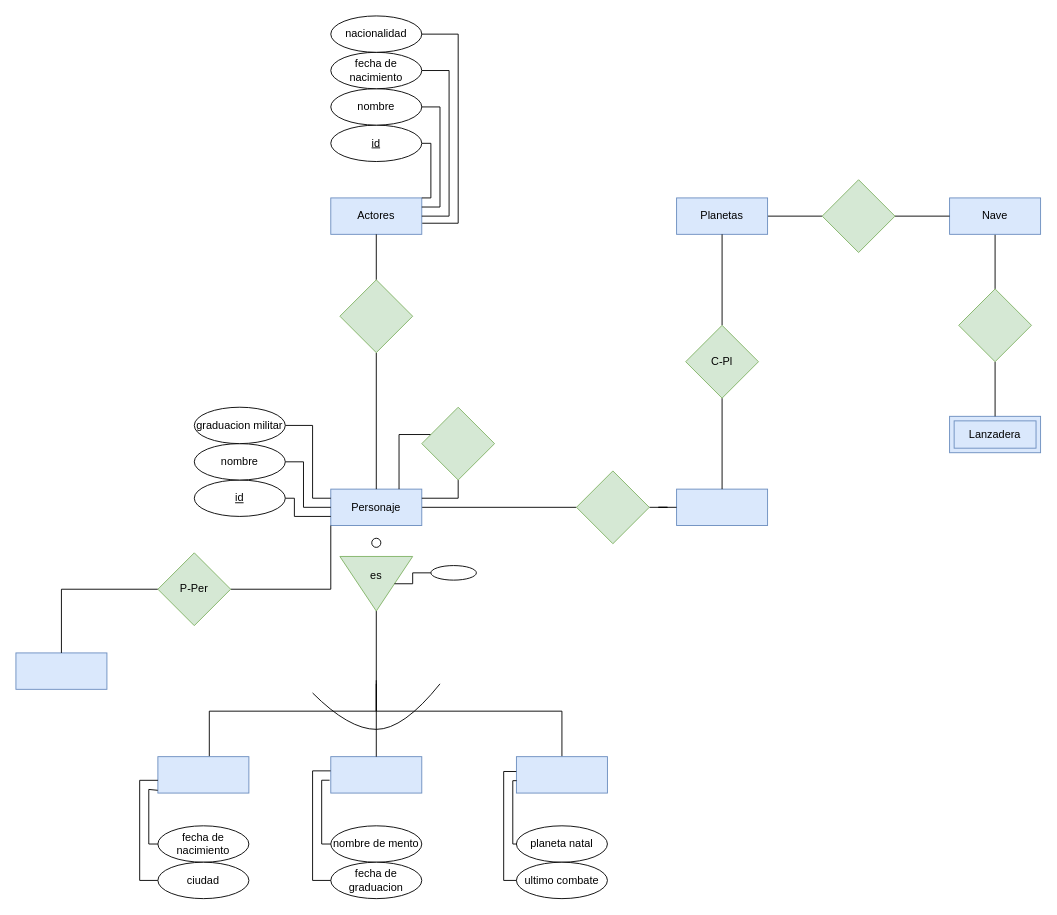
Some shapes in this 1057 by 915 pixel diagram are drawn without their labels. Each missing label, with the centre of its shape:
A-P: point 376,316
Capitulo: point 722,507
Humano: point 203,774
Klingon: point 561,774
N-L: point 994,325
P-C: point 612,507
P-P: point 458,443
Peliculas: point 61,670
Pl-N: point 858,216
tipo: point 453,572
Vulcano: point 376,774
